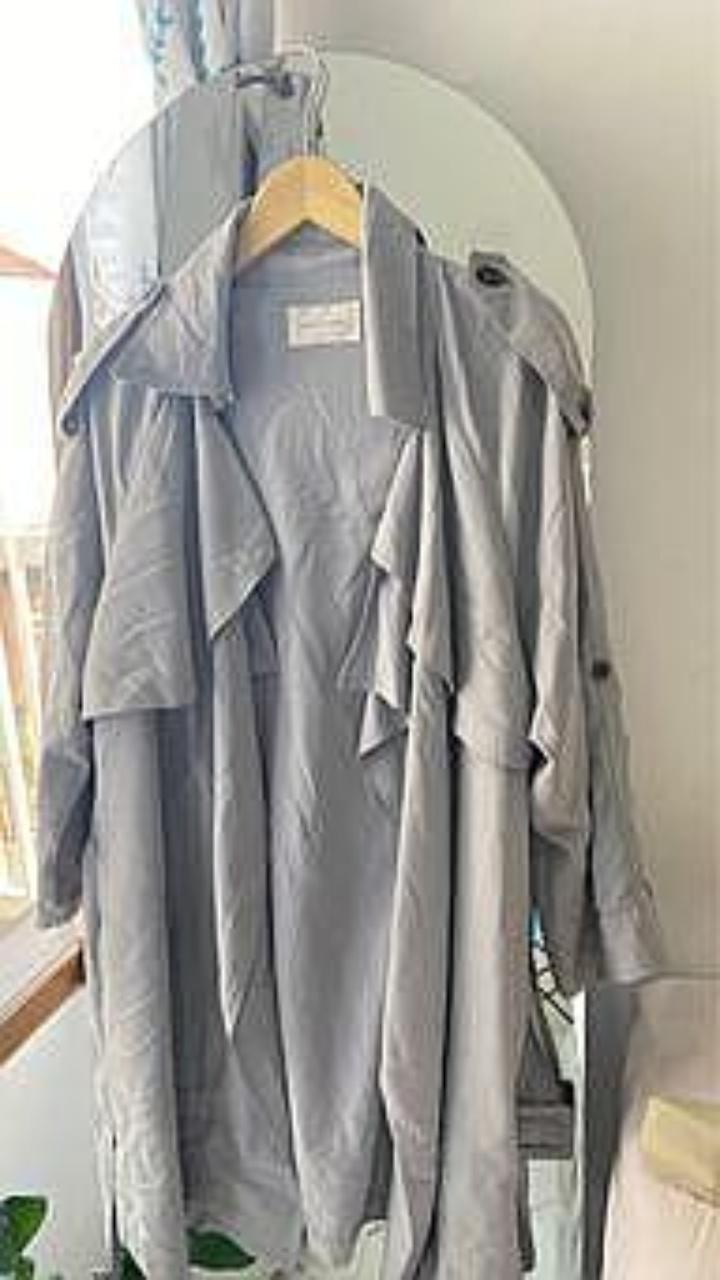Coat: (37, 185, 660, 1279)
